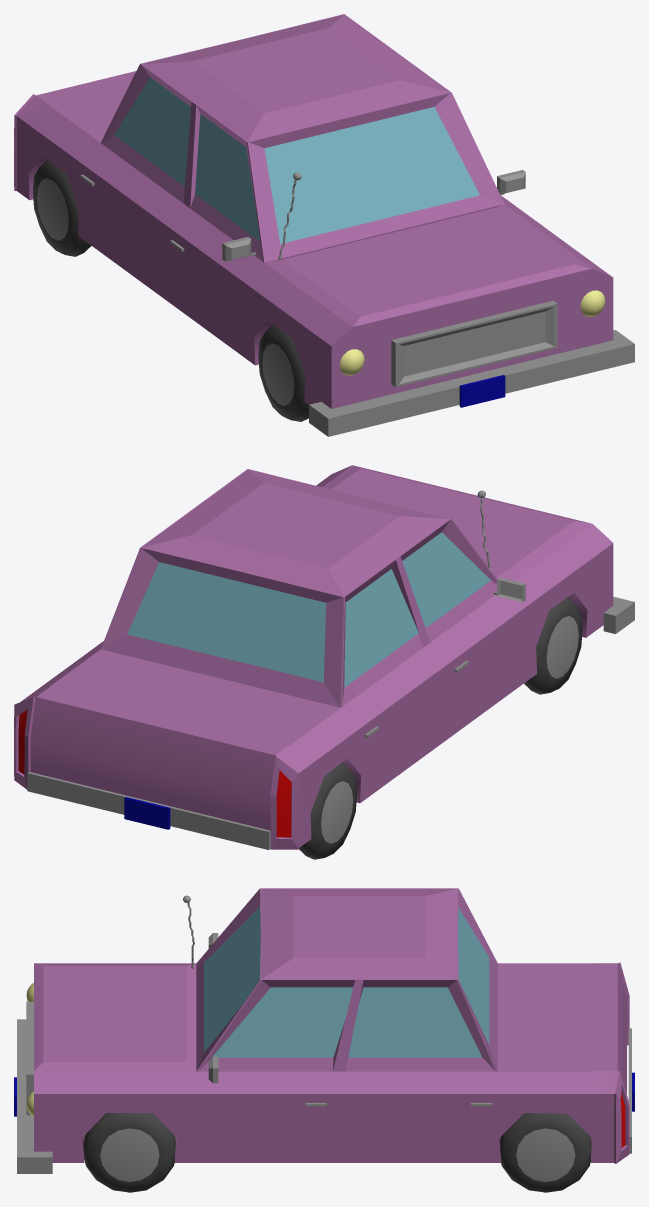
Rendered from Proto_Car_01.fbx.
3 renders of one model, top to bottom at view 1: azimuth 30°, elevation 25°; view 2: azimuth 150°, elevation 25°; view 3: azimuth 270°, elevation 25°, orthographic. The views are drawn at different scales.
Visible parts, largest first — view 1: Proto_Car_01; view 2: Proto_Car_01; view 3: Proto_Car_01.
Boxes of the visible parts, left/top/right/bottom form: Proto_Car_01: left=14, top=14, right=634, bottom=436; Proto_Car_01: left=14, top=465, right=634, bottom=859; Proto_Car_01: left=14, top=888, right=634, bottom=1192.
Size of the model in its own units: 15.28 by 10.72 by 29.07.
